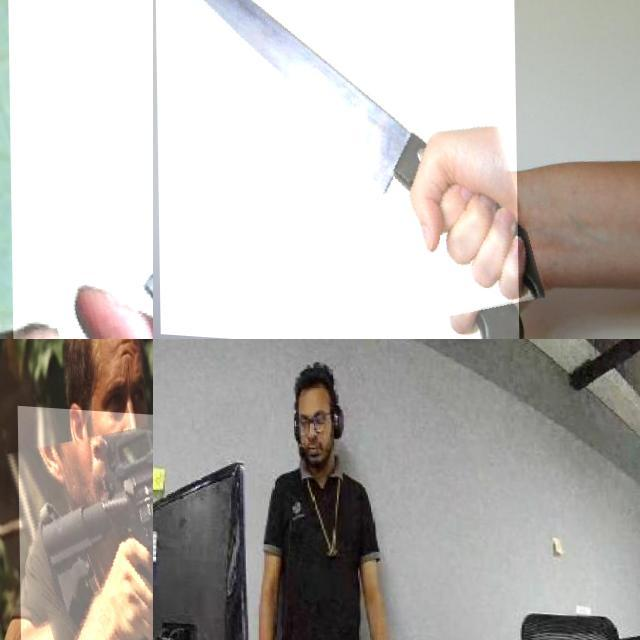-: (153, 0, 518, 339), (8, 0, 153, 339)
gun-knife-thesis - v11 Yolov5 augmented: (16, 403, 153, 640)
